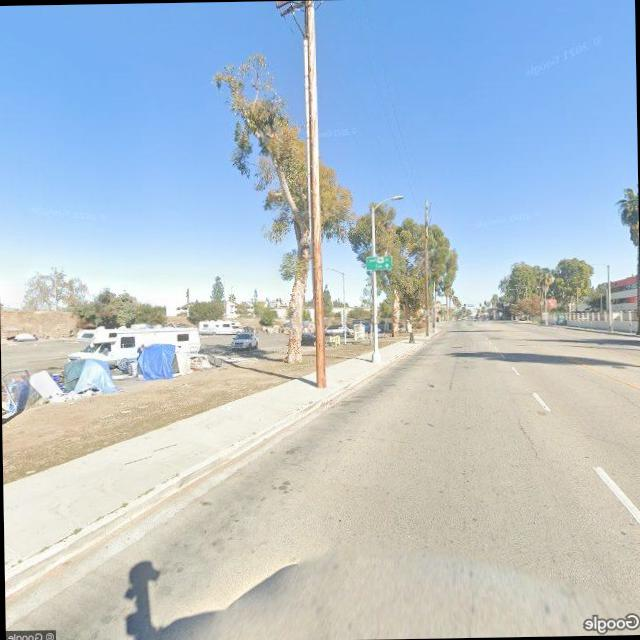pothole: (516, 412, 542, 458)
